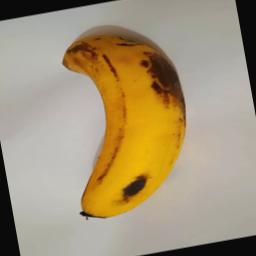Banana Unripe: (52, 18, 206, 224)
